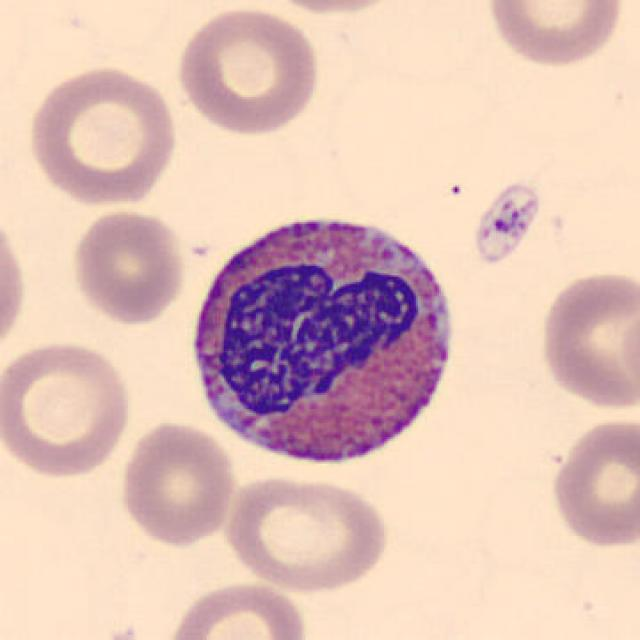Eosinophil: (180, 196, 468, 483)
Platelets: (470, 180, 542, 270)
RBC: (23, 62, 181, 208), (219, 471, 393, 594), (172, 3, 324, 138), (0, 335, 135, 481), (116, 418, 238, 548), (535, 266, 638, 413), (68, 206, 190, 326), (546, 414, 638, 550), (482, 0, 628, 71), (164, 578, 311, 640), (0, 202, 30, 360), (256, 0, 411, 16)
